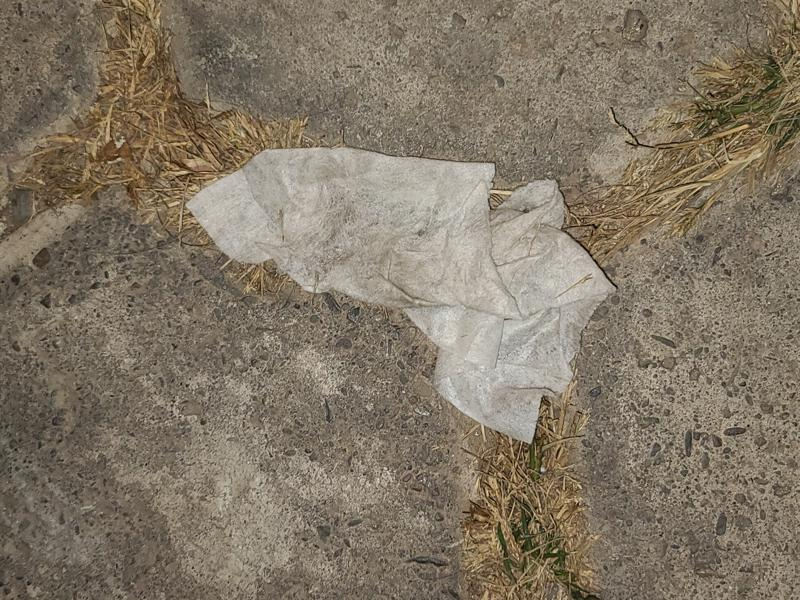papel: (184, 148, 614, 446)
